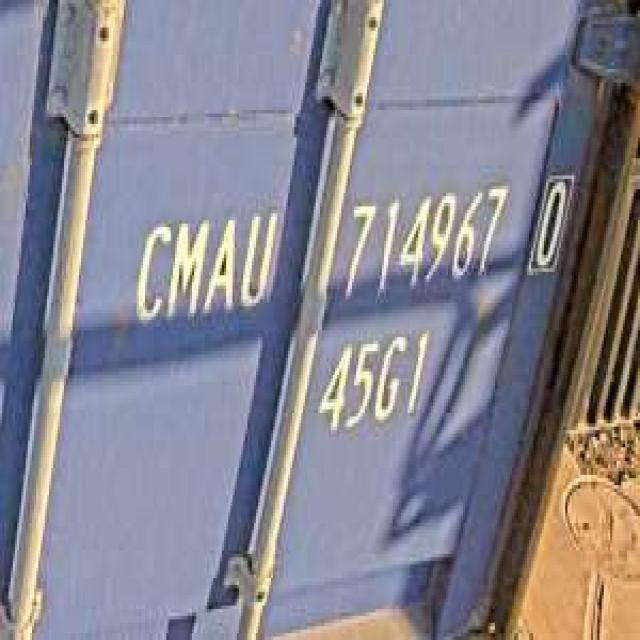dv: (529, 158, 574, 286)
owner: (130, 193, 282, 327)
serial: (337, 172, 510, 306)
size: (314, 327, 440, 440)
